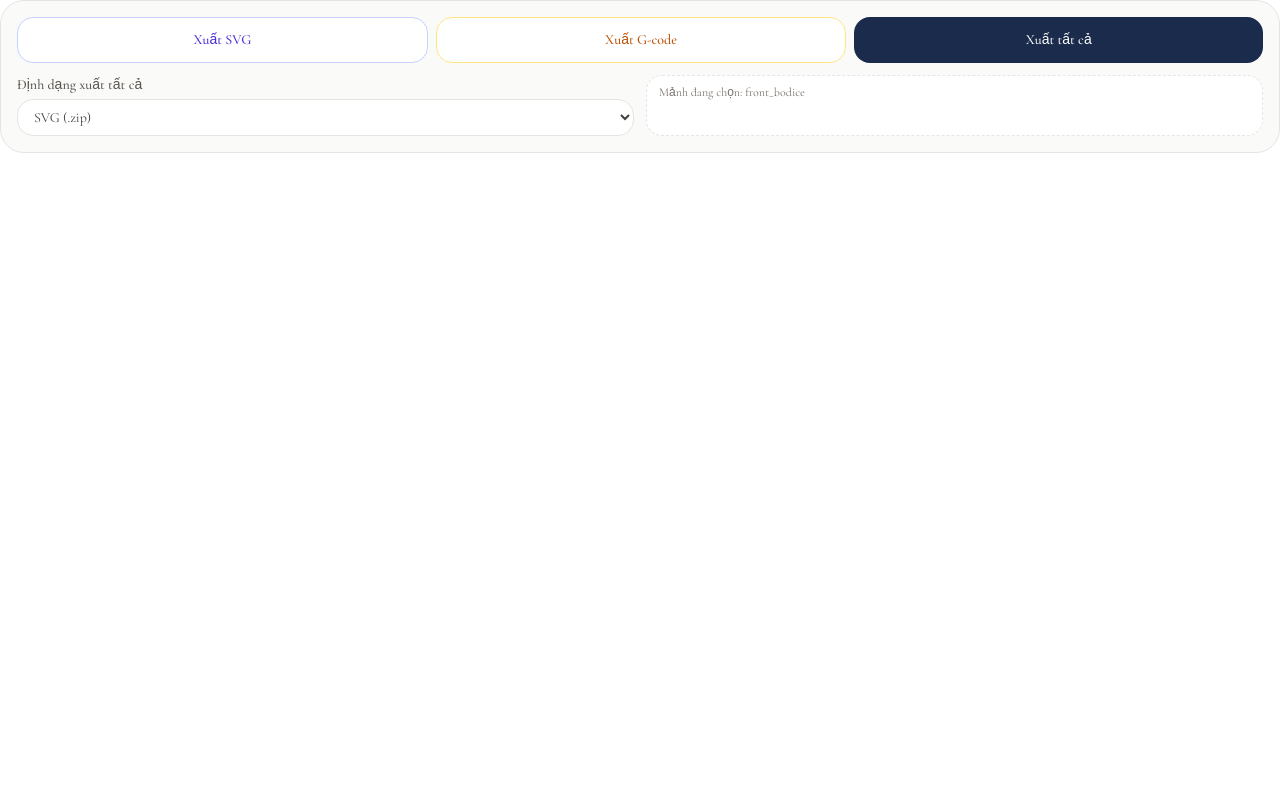
PatternExportBar › shows G-code settings when the popover button is clicked
Step 1. Click the button "Xuất G-code" → (641, 40), box [436,17,846,63]
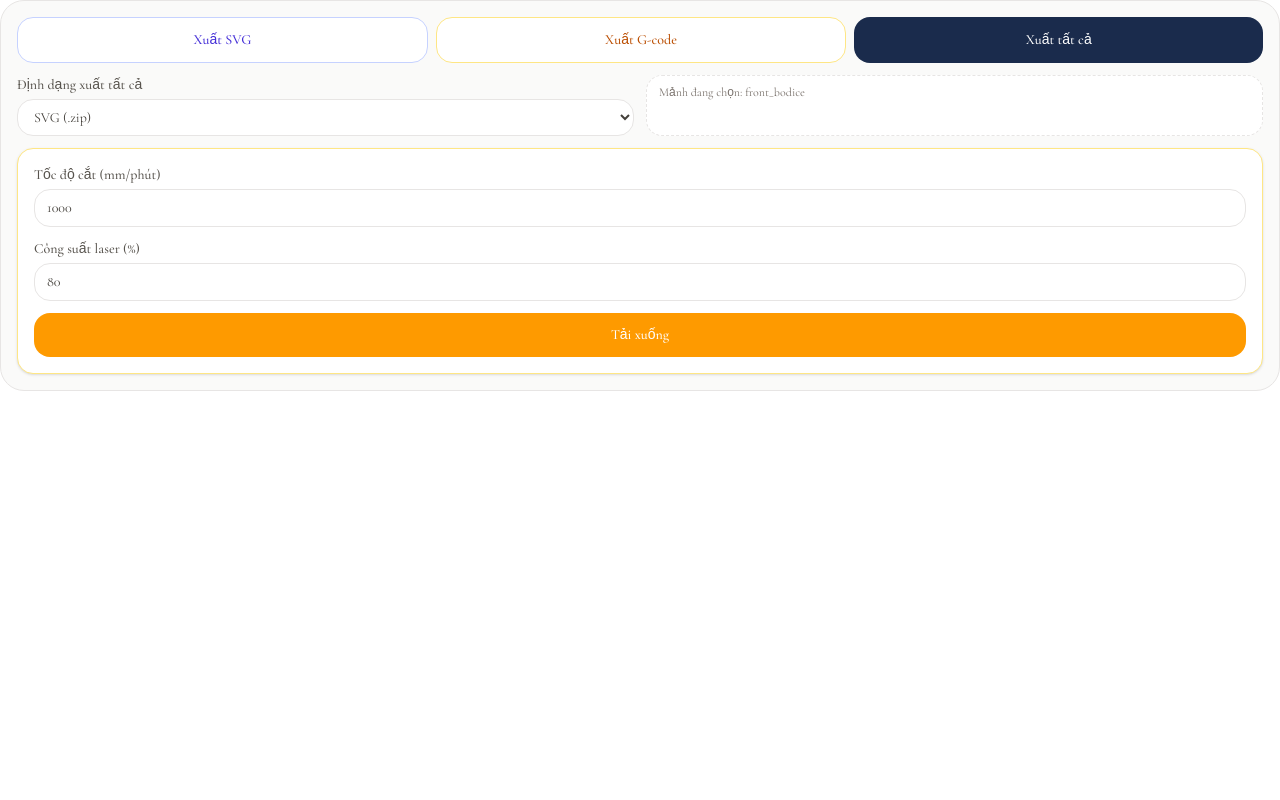
Expected: the number field labelled "Tốc độ cắt (mm/phút)" is shown, [34,189,1246,227]
Expected: the number field labelled "Công suất laser (%)" is shown, [34,263,1246,301]
